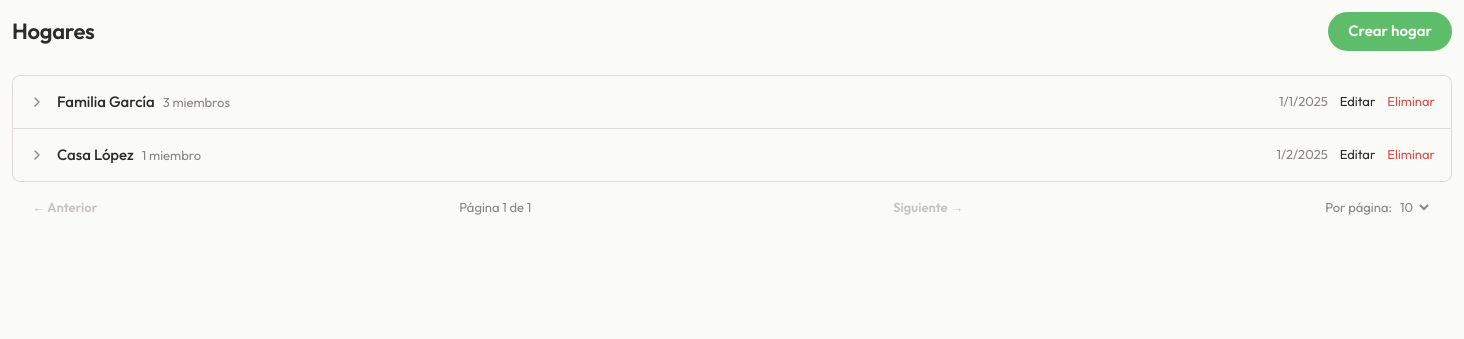
Test: AdminHouseholdsPage › shows cascade warning in ConfirmDialog when Eliminar is clicked
The width and height of the screenshot is (1464, 339).
Expected: the text "Familia García" is shown, [57, 92, 155, 111]
Click the button "Eliminar" in the row of "1/1/2025". click: (1411, 102)
box: [1387, 92, 1435, 111]
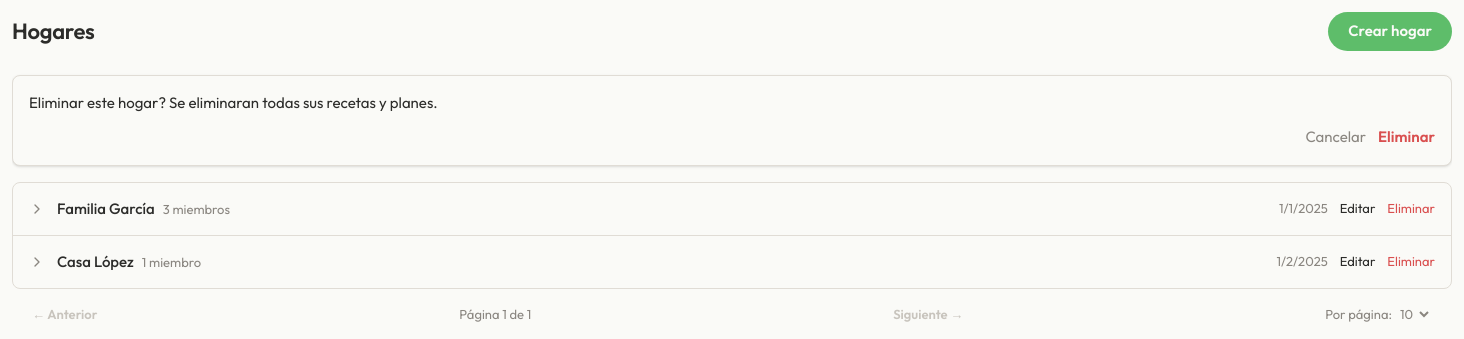
Result: the text "Eliminar este hogar? Se eliminaran todas sus recetas y planes." is shown at [29, 92, 438, 112]
